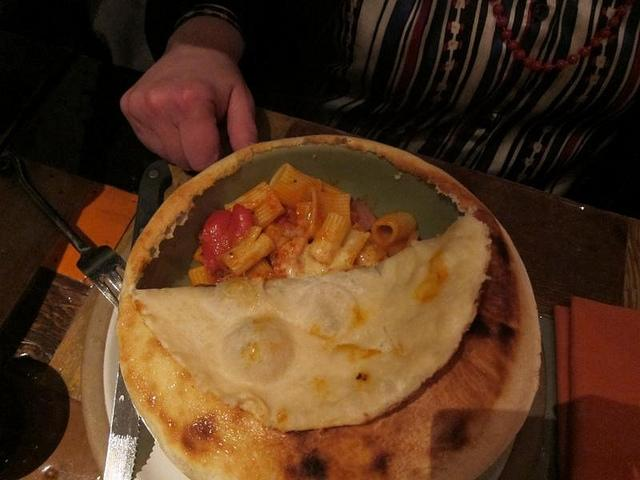tomato: (228, 204, 253, 237)
